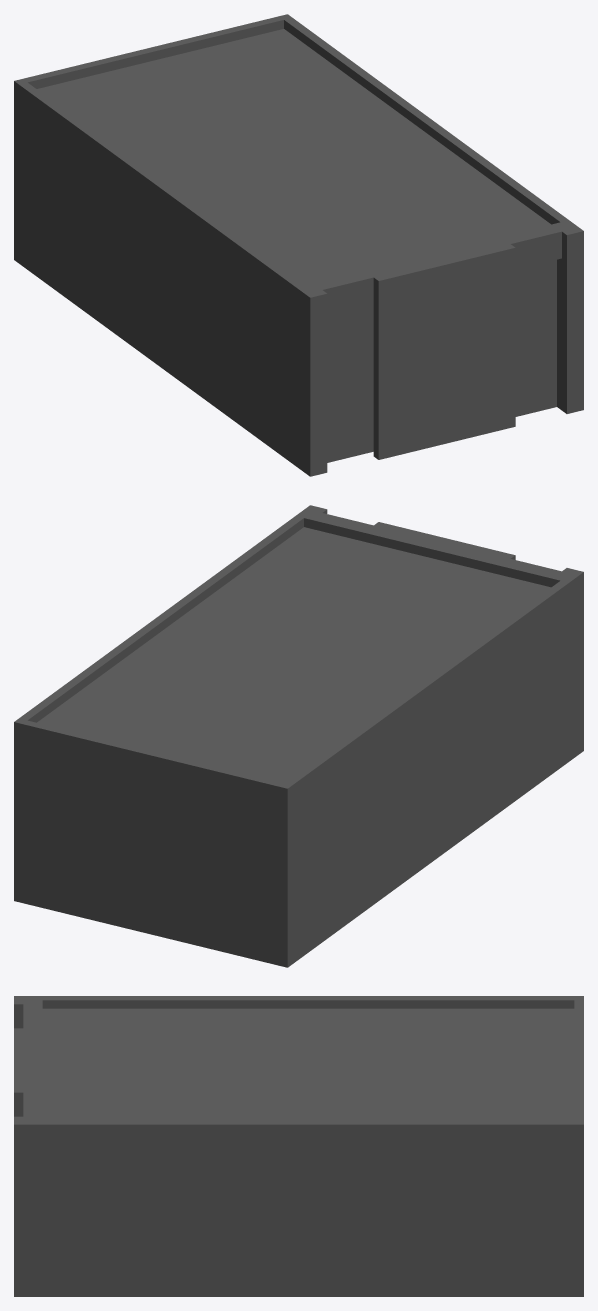
The model's file is bld_story06b.obj.
3 renders of one model, top to bottom at view 1: azimuth 30°, elevation 25°; view 2: azimuth 150°, elevation 25°; view 3: azimuth 270°, elevation 25°, orthographic. The views are drawn at different scales.
Size of the model in its own units: 32 by 20 by 60.
